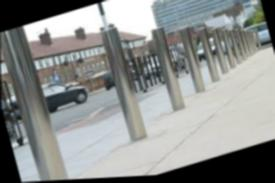Animal: (0, 22, 70, 183), (93, 20, 159, 146), (145, 23, 189, 119), (172, 26, 204, 97)
